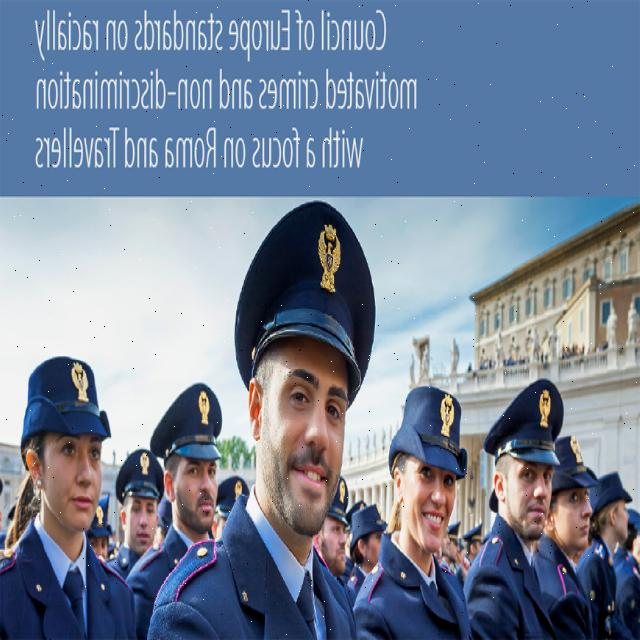police: (156, 174, 407, 640), (0, 319, 129, 640), (366, 353, 482, 640), (118, 365, 230, 640), (462, 382, 572, 640), (540, 441, 634, 640)
